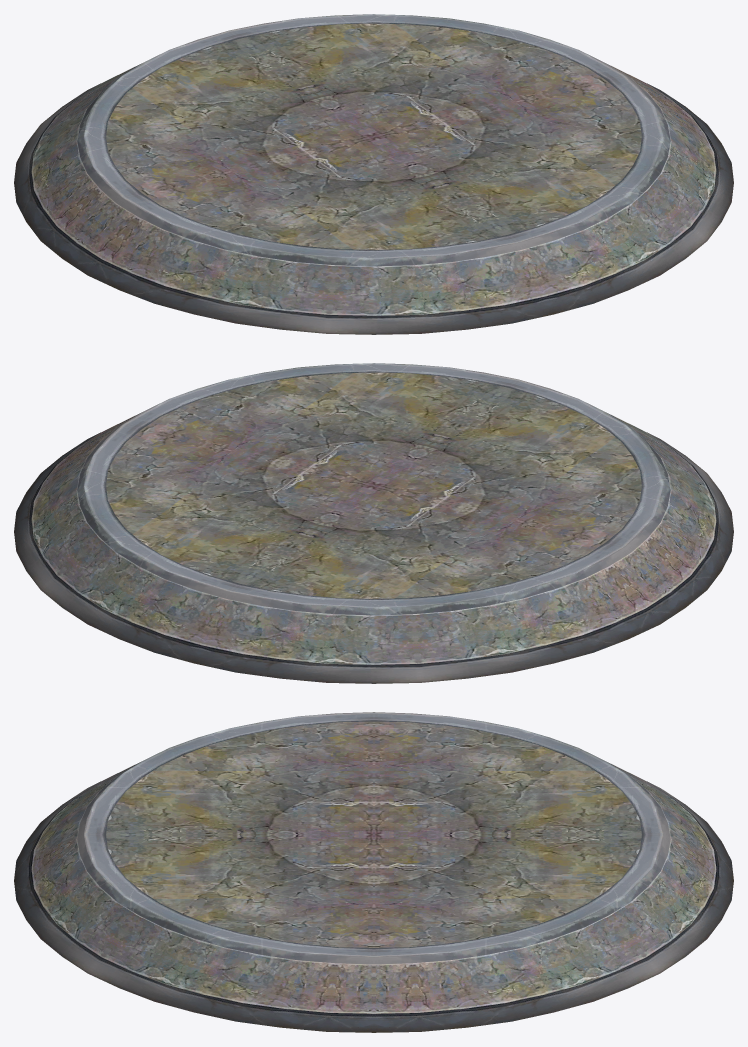
File: bel_arch_rakata_raised_platform_01.glb
3 views of the same model, one above another, from view 1: azimuth 30°, elevation 25°; view 2: azimuth 150°, elevation 25°; view 3: azimuth 270°, elevation 25° (orthographic).
Parts seen in each view (by area): view 1: bel_arch_rakata_raised_platform_01; view 2: bel_arch_rakata_raised_platform_01; view 3: bel_arch_rakata_raised_platform_01.
Part boxes in pixels (x1=…): bel_arch_rakata_raised_platform_01: x1=14, y1=14, x2=733, y2=334; bel_arch_rakata_raised_platform_01: x1=14, y1=363, x2=733, y2=683; bel_arch_rakata_raised_platform_01: x1=14, y1=712, x2=733, y2=1032.
Bounding box in the file's own units: 1.22 × 0.0863 × 1.22.
2 materials, 2 textured.
